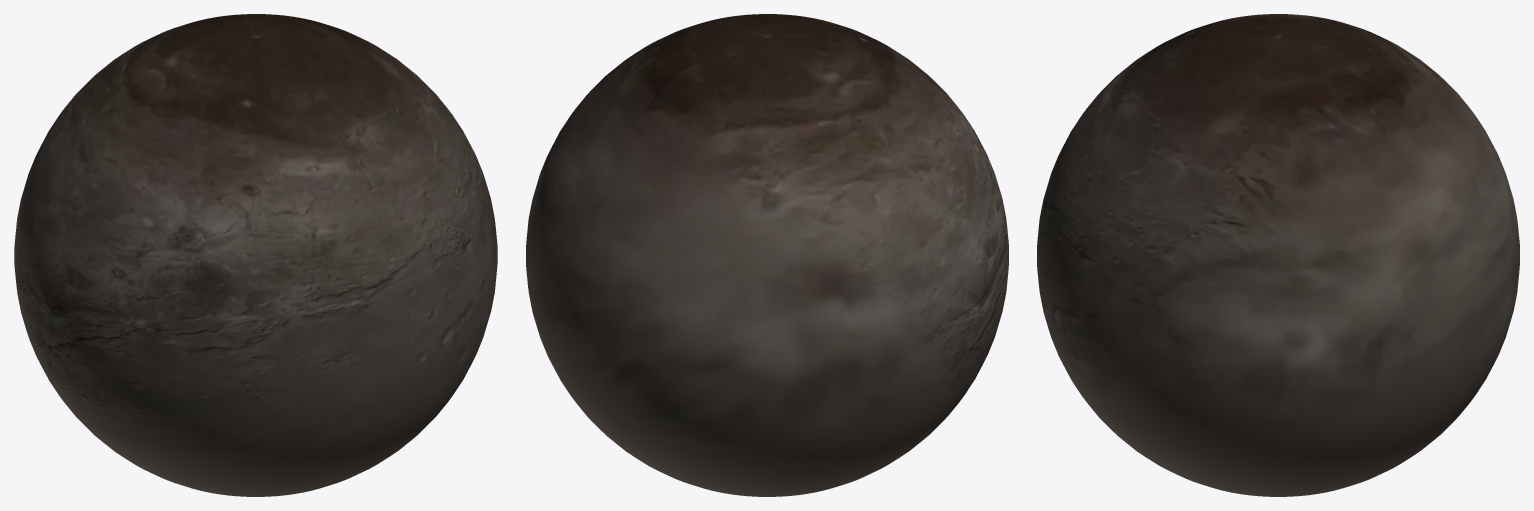
Rendered from charon.glb.
3 views of the same model, side by side, from view 1: azimuth 30°, elevation 25°; view 2: azimuth 150°, elevation 25°; view 3: azimuth 270°, elevation 25° (orthographic).
Parts seen in each view (by area): view 1: cylindrically_mapped_sphere:Mesh.001; view 2: cylindrically_mapped_sphere:Mesh.001; view 3: cylindrically_mapped_sphere:Mesh.001.
Boxes of the visible parts, x1,y1,x2,y2 form: cylindrically_mapped_sphere:Mesh.001: (14,14,497,496); cylindrically_mapped_sphere:Mesh.001: (526,14,1008,496); cylindrically_mapped_sphere:Mesh.001: (1037,14,1519,496).
Size of the model in its own units: 604 by 604 by 604.
1 material, 1 textured.
